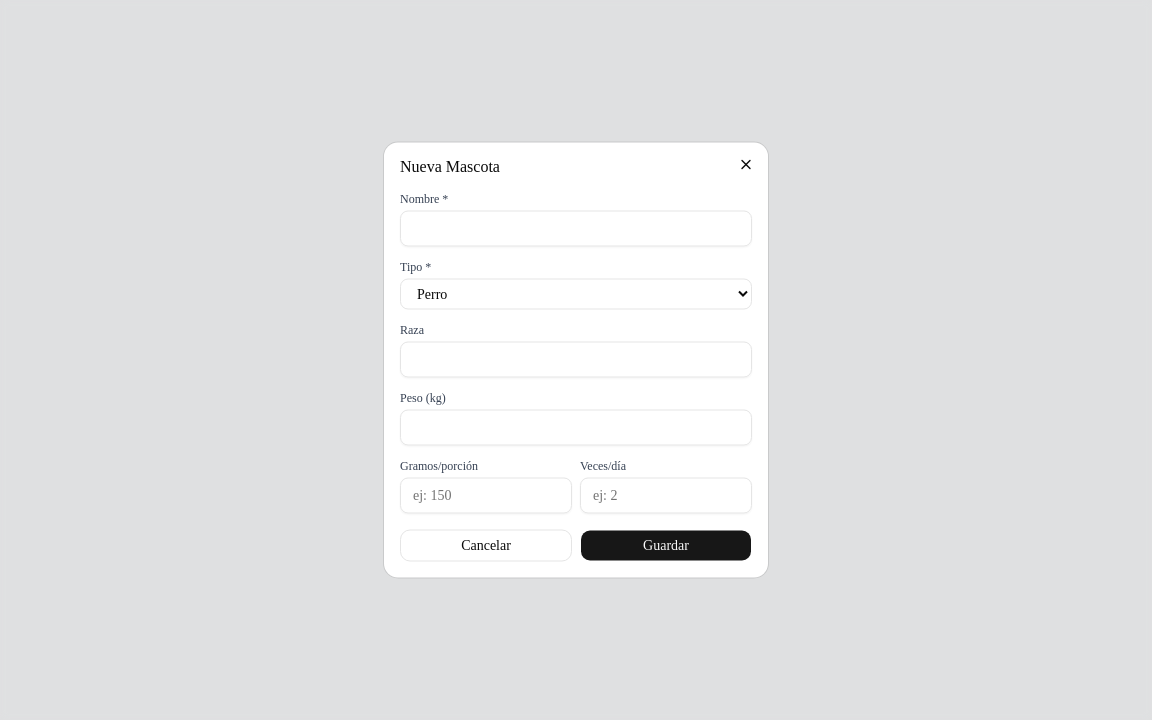
it: ModalMascotaCreate › C-20: tras guardar exitosamente muestra banner '¡Mascota registrada!' antes de cerrar
Type "Firulais" into the field below "Nombre *" at (576, 228), box top-left (400, 210), bottom-right (752, 246)
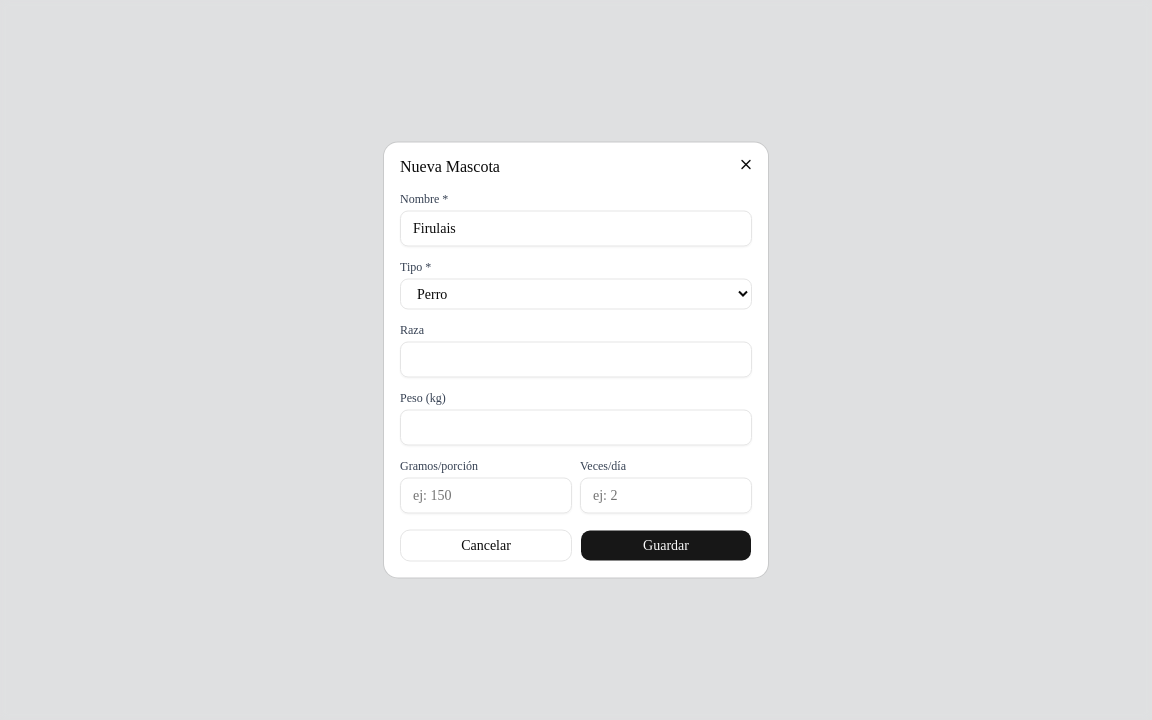
Click the button "Guardar" at (666, 546), box top-left (580, 530), bottom-right (752, 562)
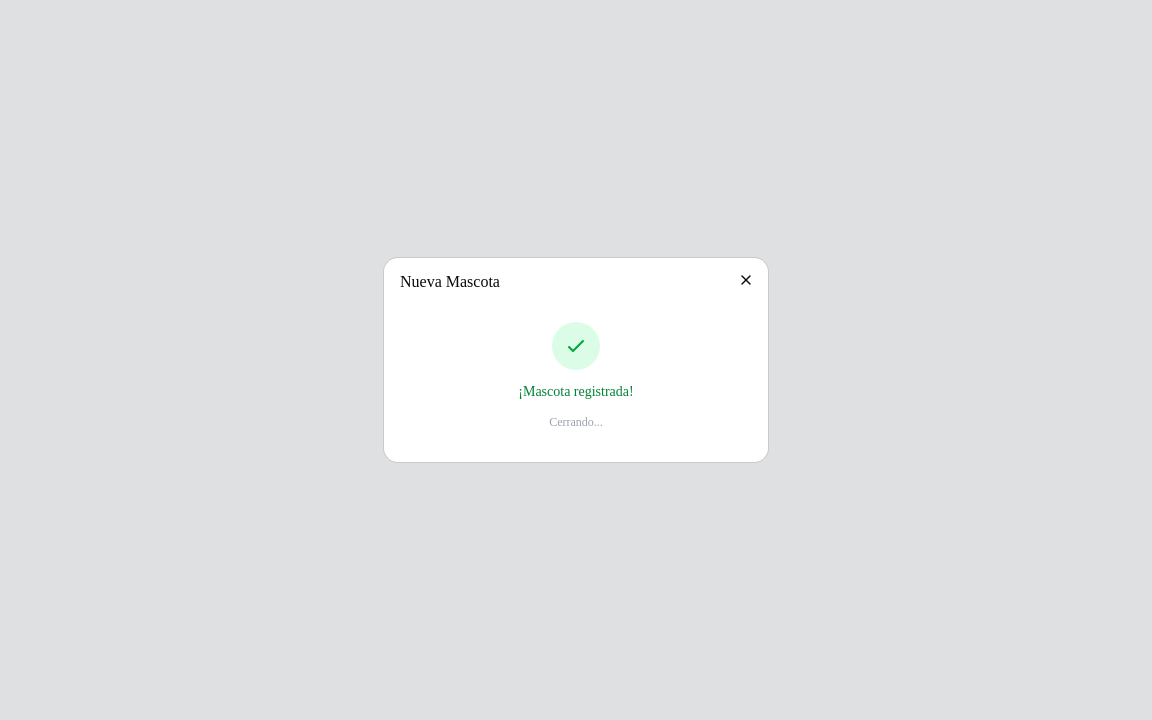
Expected: the text "¡Mascota registrada!" is shown, top-left (518, 382), bottom-right (634, 402)
Expected: the button "Guardar" is gone
